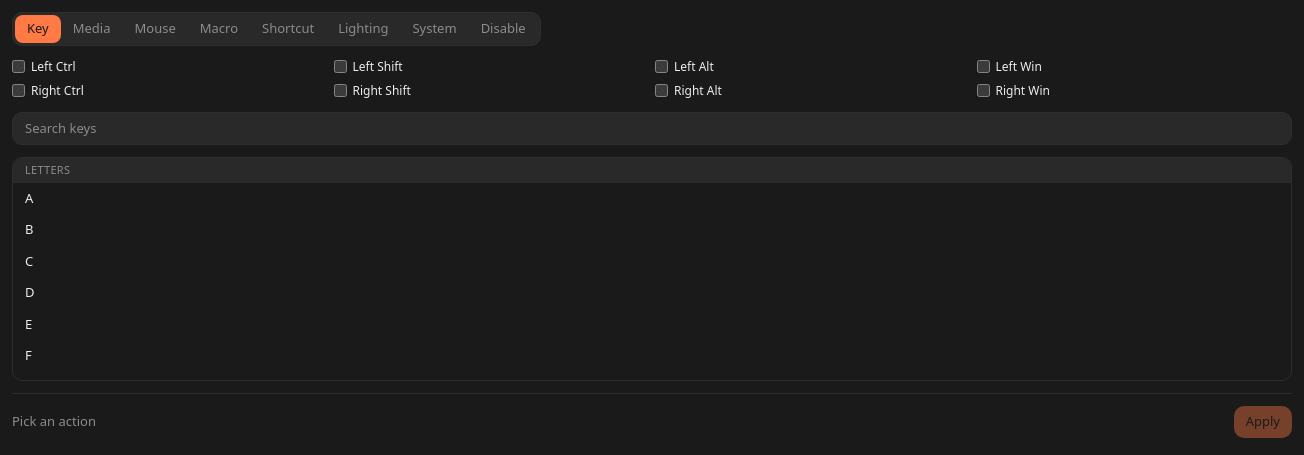
Test: F22+ shows the 2.4G-only note
The width and height of the screenshot is (1304, 455).
Click the radio button labelled "Key" at (38, 29), box left=15, top=15, right=61, bottom=42
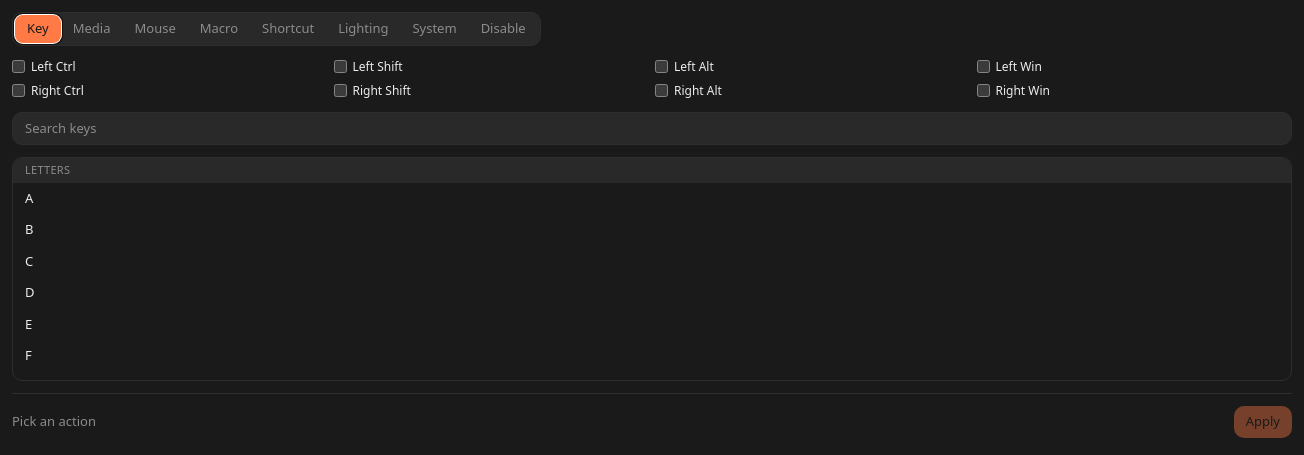
Type "F24" into the search field labelled "Search keys" at (652, 128), box left=12, top=112, right=1292, bottom=145
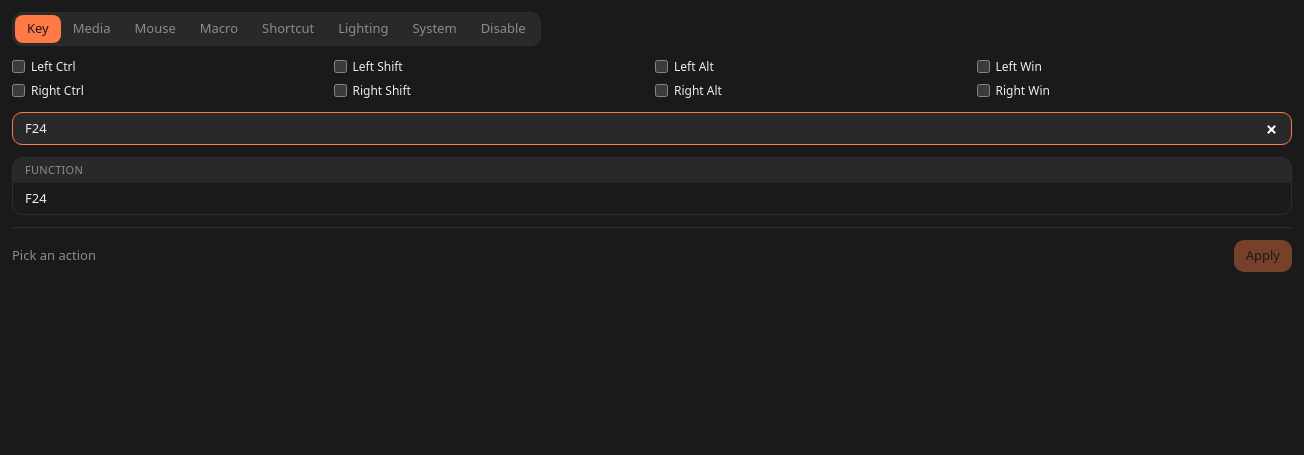
Click the radio button labelled "F24" at (36, 198), box left=13, top=182, right=1291, bottom=214
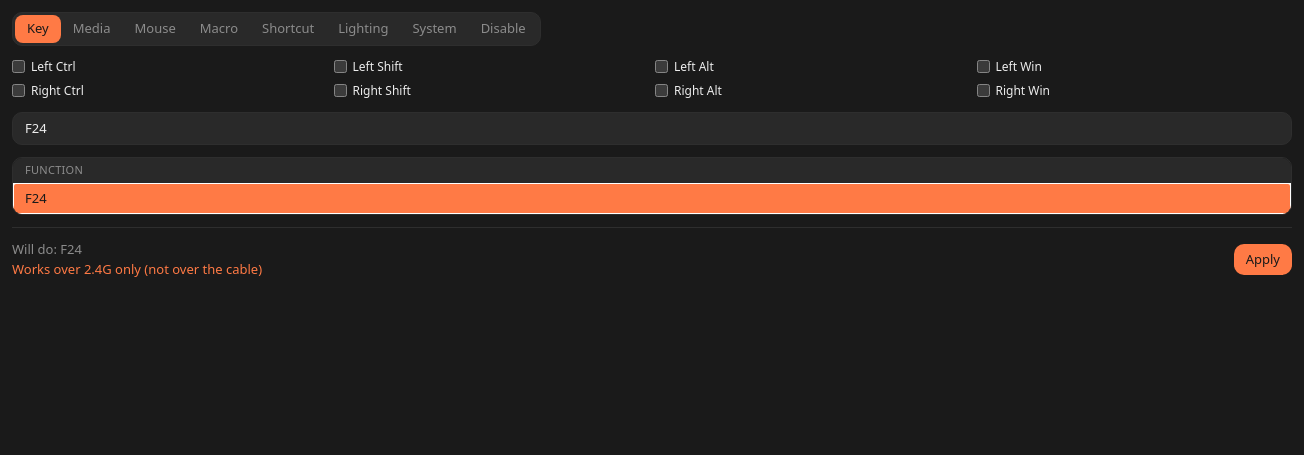
Check: the text "Works over 2.4G only (not over the cable)" is shown, box left=12, top=260, right=262, bottom=279
